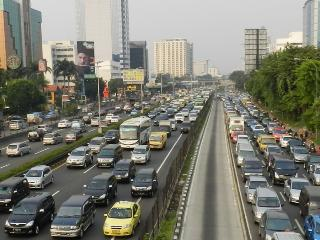mobil: (50, 192, 96, 240), (4, 193, 54, 233), (103, 199, 141, 237), (86, 174, 118, 204), (121, 118, 151, 146), (24, 164, 56, 190), (132, 168, 158, 196), (96, 143, 124, 169), (68, 146, 92, 170), (148, 130, 170, 152), (7, 141, 33, 159), (131, 146, 151, 164), (44, 131, 64, 147), (90, 136, 106, 154), (66, 129, 84, 143), (26, 129, 46, 141), (103, 128, 117, 142), (180, 121, 192, 135)
